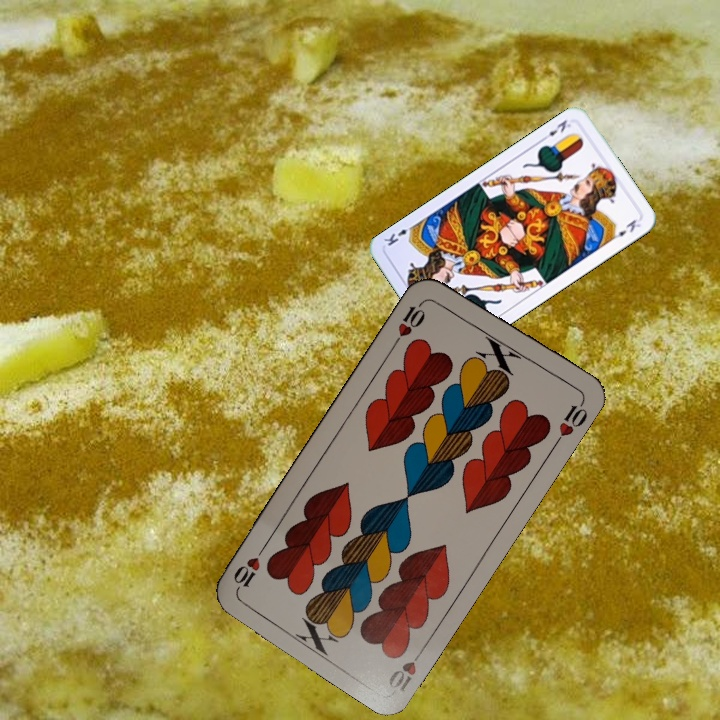EK: (538, 115, 573, 144)
H10: (383, 642, 429, 695), (390, 295, 429, 348)
